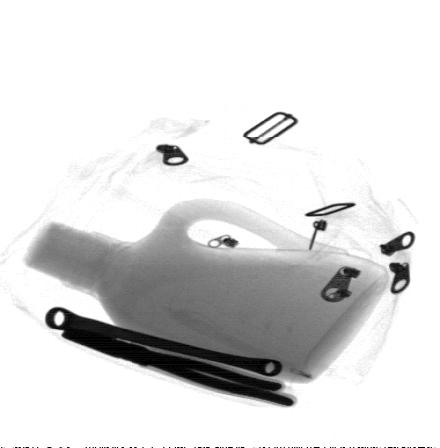Pliers: (61, 328, 297, 406)
Wrench: (42, 306, 283, 379)
